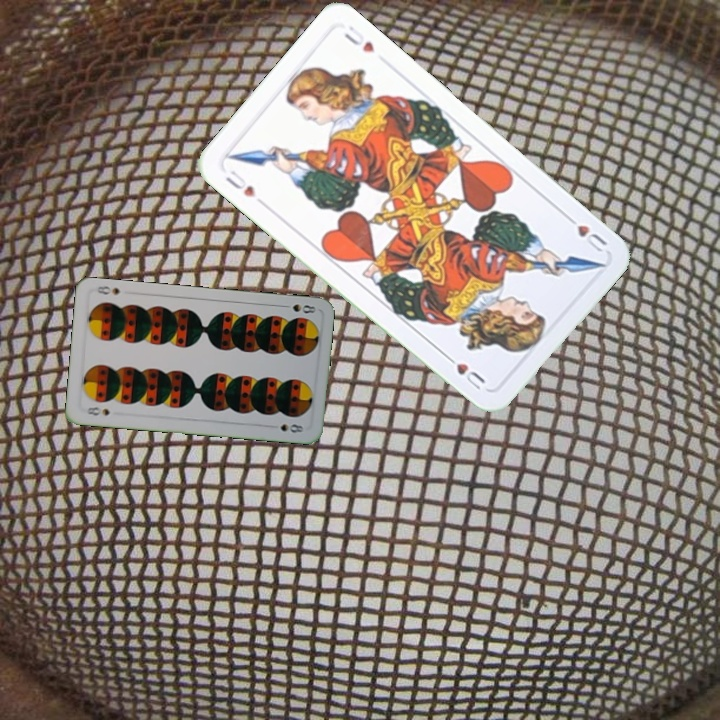HU: (561, 210, 610, 255), (221, 166, 258, 200)
S8: (278, 300, 318, 316), (83, 403, 112, 418)
